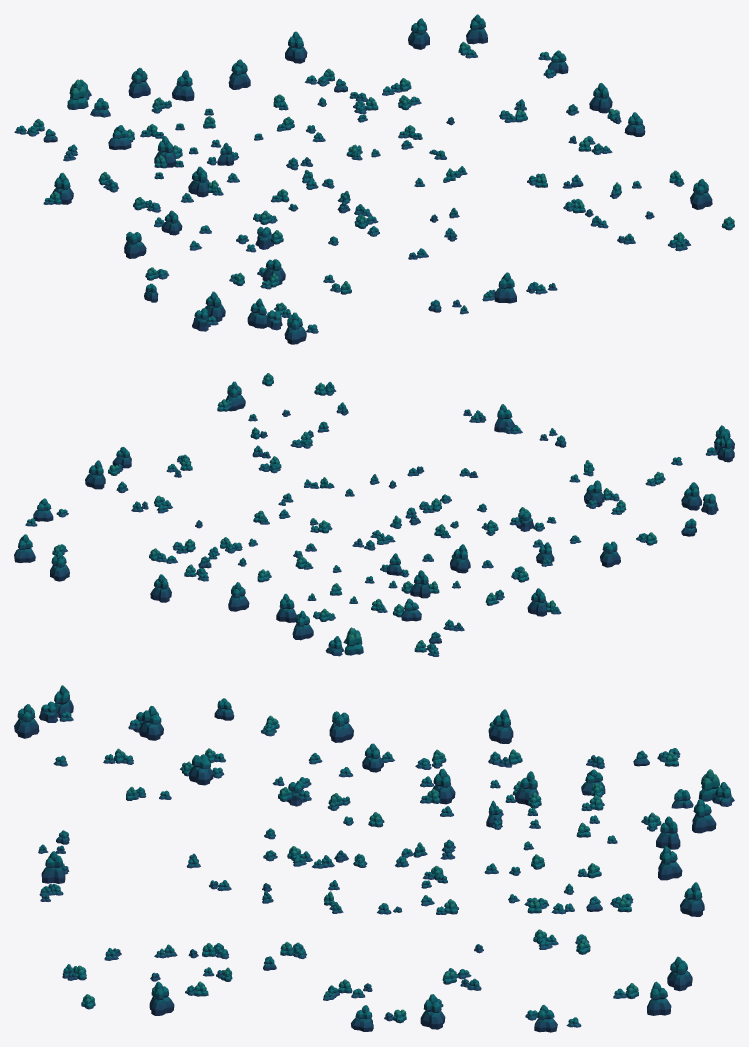
Rendered from World_Foliage.gltf.
3 renders of one model, top to bottom at view 1: azimuth 30°, elevation 25°; view 2: azimuth 150°, elevation 25°; view 3: azimuth 270°, elevation 25°, orthographic. The views are drawn at different scales.
Visible parts, largest first — view 1: World_Foliage; view 2: World_Foliage; view 3: World_Foliage.
Boxes of the visible parts, x1,y1,x2,y2 form: World_Foliage: [14, 14, 734, 344]; World_Foliage: [14, 373, 734, 656]; World_Foliage: [14, 685, 734, 1032].
Bounding box in the file's own units: 242 × 23.96 × 241.
1 material, 1 textured.
